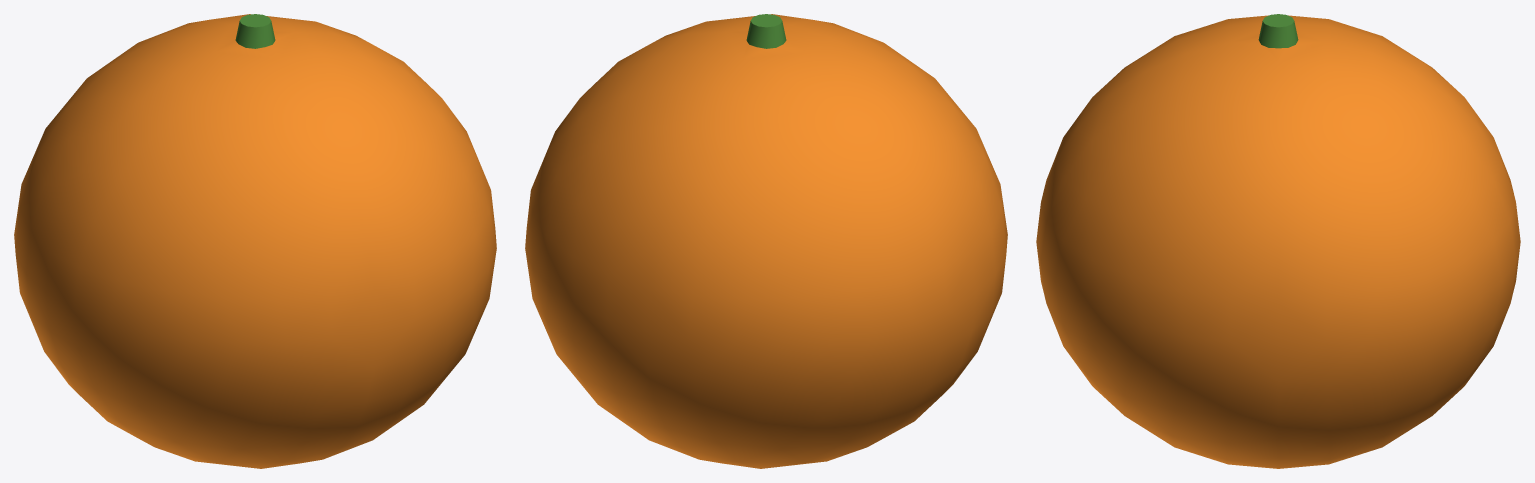
The model's file is orange.glb.
The picture shows the model from 3 angles, left to right: view 1: azimuth 30°, elevation 25°; view 2: azimuth 150°, elevation 25°; view 3: azimuth 270°, elevation 25°; orthographic projection.
Parts seen in each view (by area): view 1: orange; view 2: orange; view 3: orange.
Part boxes in pixels (box(x1,y1,x2,y2)): orange: box(14, 14, 496, 468); orange: box(525, 14, 1007, 468); orange: box(1036, 14, 1520, 468).
Size of the model in its own units: 0.08 by 0.0774 by 0.08.
